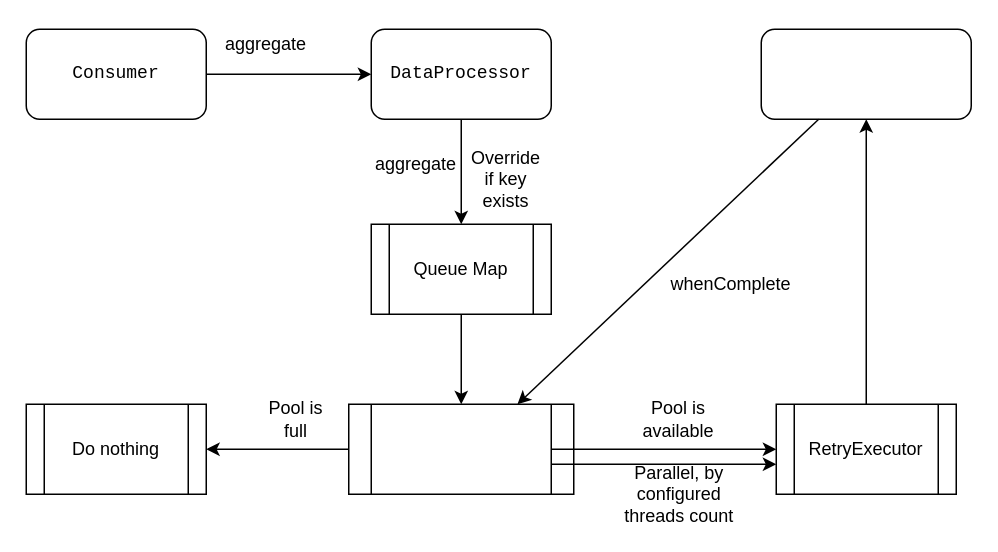
This 998x552 diagram has some shape labels left out. Each missing label, with the centre of its shape:
DataObjectProcessor process logic: point 865,73
processDataObjects: point 460,448
